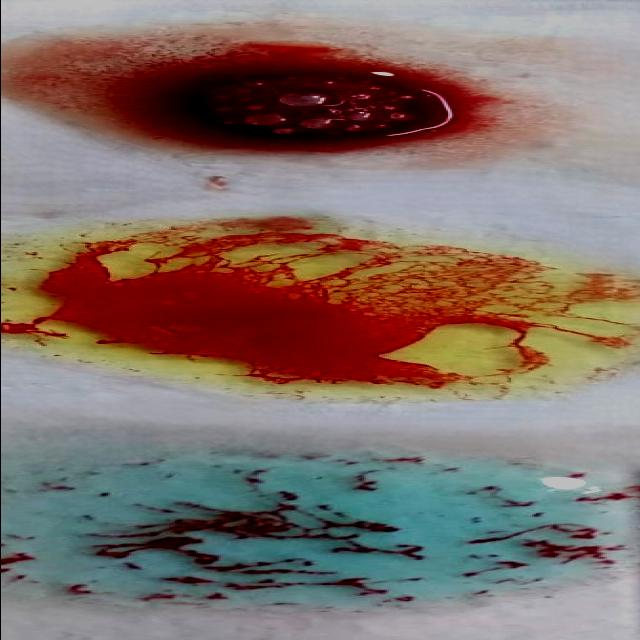A: (0, 456, 609, 611)
B: (0, 232, 640, 396)
D: (0, 35, 604, 164)
